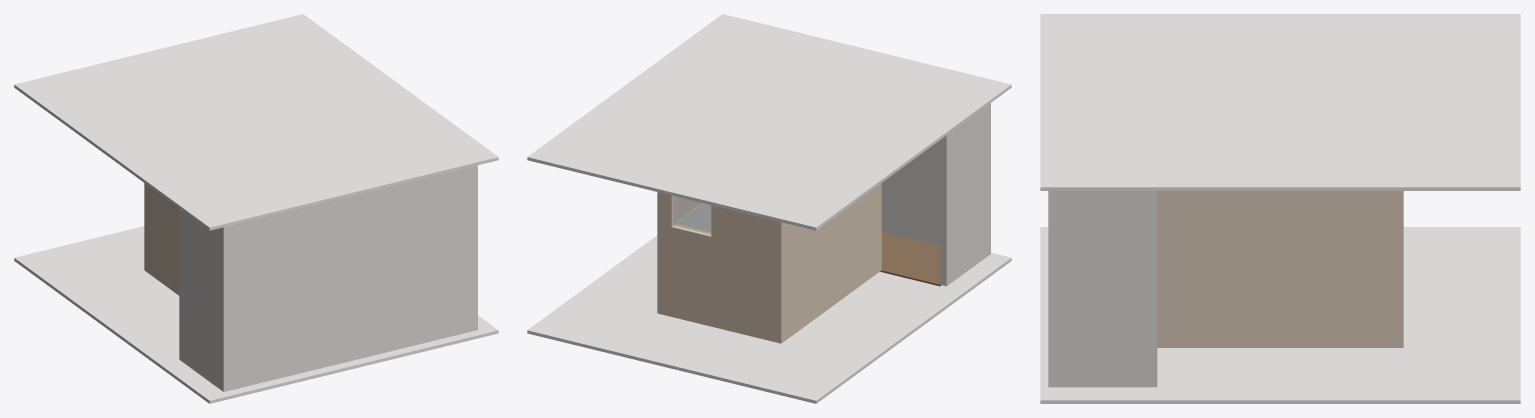
3 renders of one model, left to right at view 1: azimuth 30°, elevation 25°; view 2: azimuth 150°, elevation 25°; view 3: azimuth 270°, elevation 25°, orthographic. The views are drawn at different scales.
Visible parts, largest first — view 1: baked; view 2: baked, window_glass_0; view 3: baked.
Part boxes in pixels (x1=…): baked: x1=14, y1=14, x2=498, y2=403; baked: x1=527, y1=14, x2=1011, y2=403; window_glass_0: x1=674, y1=196, x2=710, y2=234; baked: x1=1040, y1=14, x2=1520, y2=403.
Size of what is drawn, in the model's own units: 4.44 by 2.59 by 5.21.
